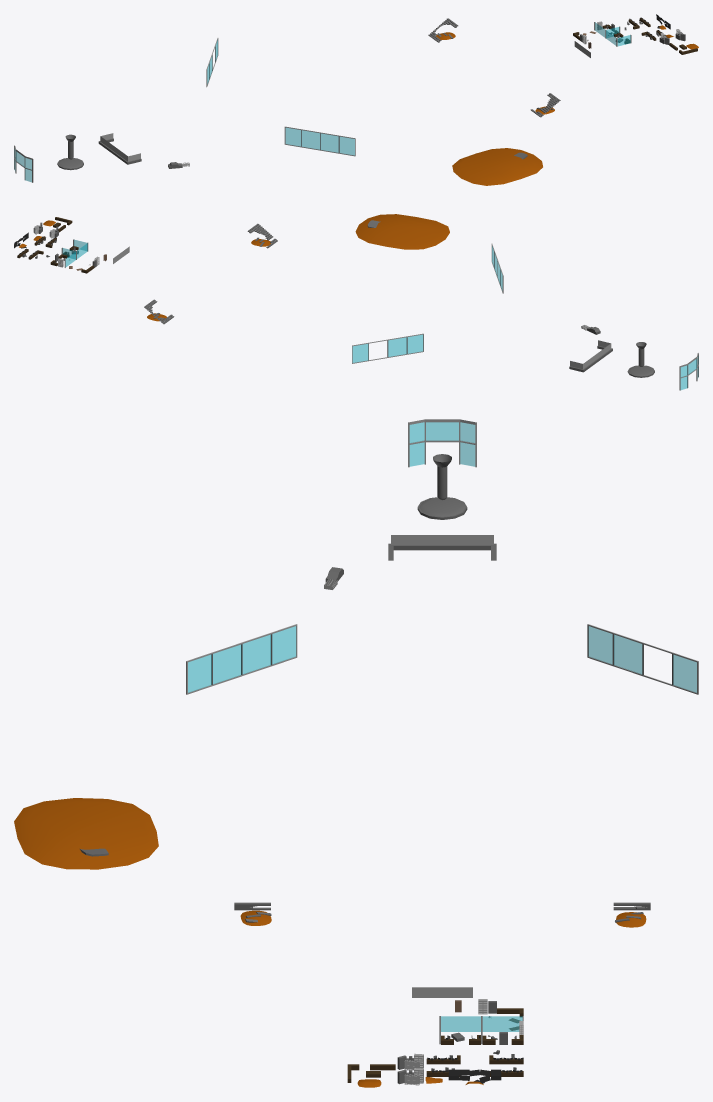
File: Props.fbx
The picture shows the model from 3 angles, top to bottom: view 1: azimuth 30°, elevation 25°; view 2: azimuth 150°, elevation 25°; view 3: azimuth 270°, elevation 25°; orthographic projection. The views are drawn at different scales.
Visible parts, largest first — view 1: polySurface932; view 2: polySurface932; view 3: polySurface932.
Part boxes in pixels (<box>): polySurface932: <box>14,14,698,185</box>; polySurface932: <box>14,214,698,390</box>; polySurface932: <box>14,419,698,1087</box>.
Size of the model in its own units: 26.76 by 1.71 by 12.99.
